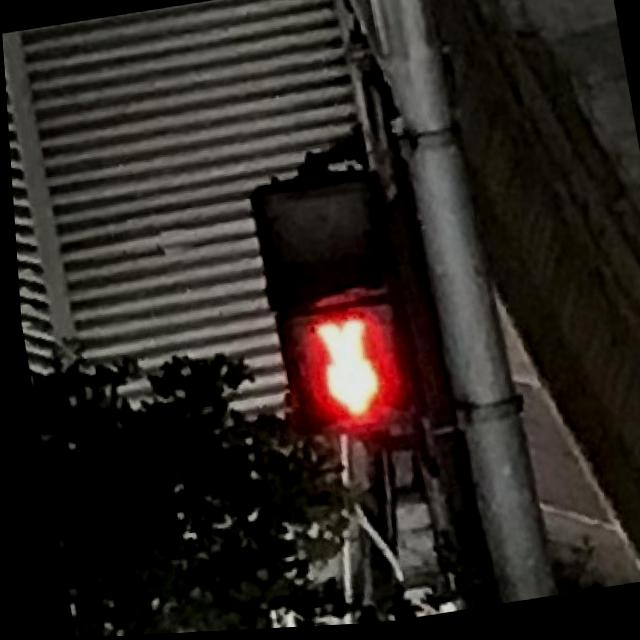red_light: (274, 297, 419, 438)
